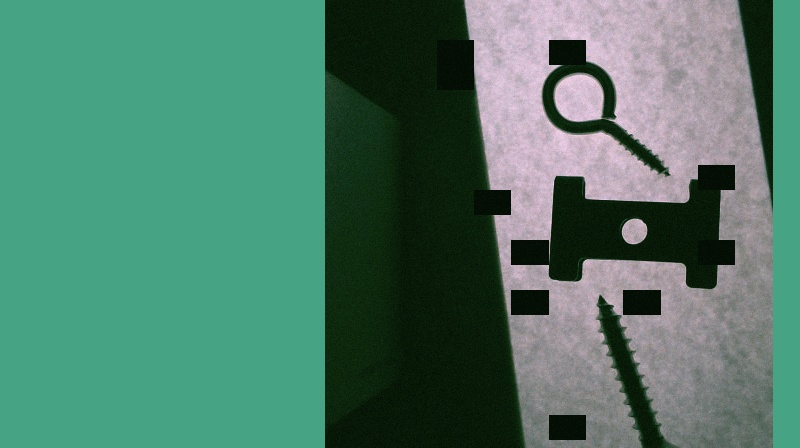O001: (539, 58, 671, 176)
O002: (548, 170, 721, 292)
S001: (592, 291, 686, 447)
